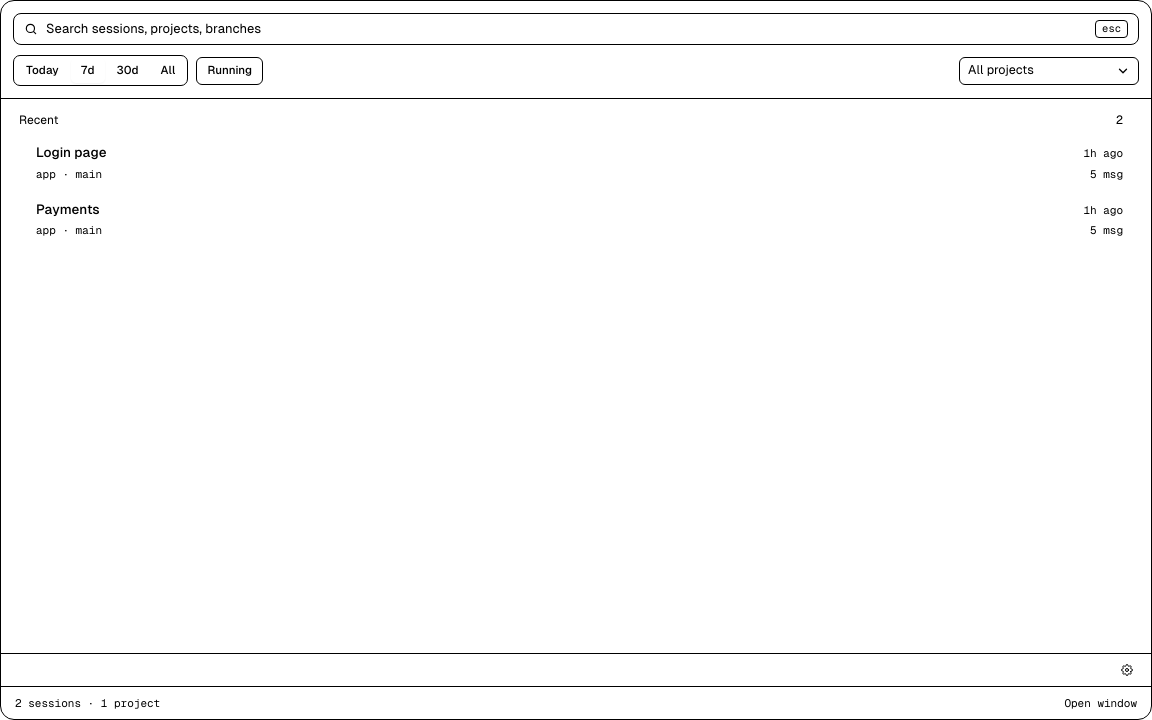
Test: Popover › search filters the list
Type "login" into the search field at (567, 29), box [46,19,1087,39]
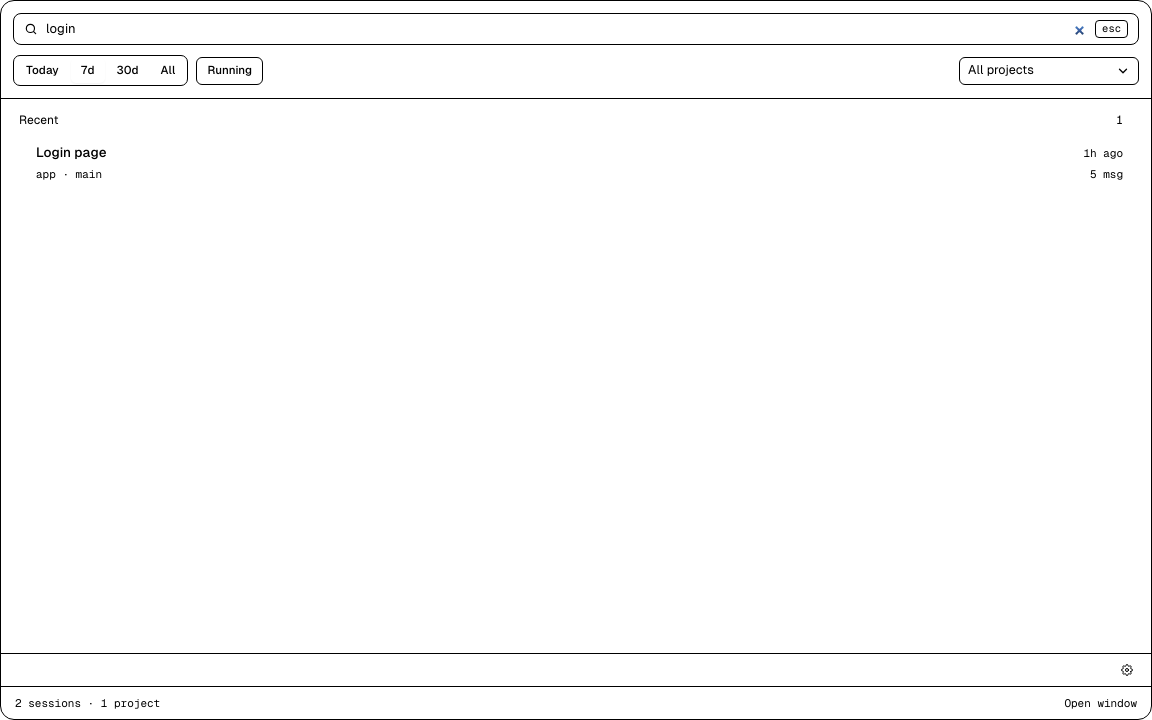
Check: the text "Login page" is shown, box [36,145,106,160]
Check: the text "Payments" is gone
